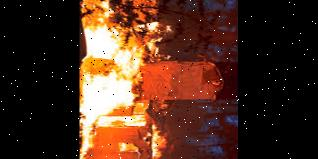fire: (79, 0, 172, 159)
